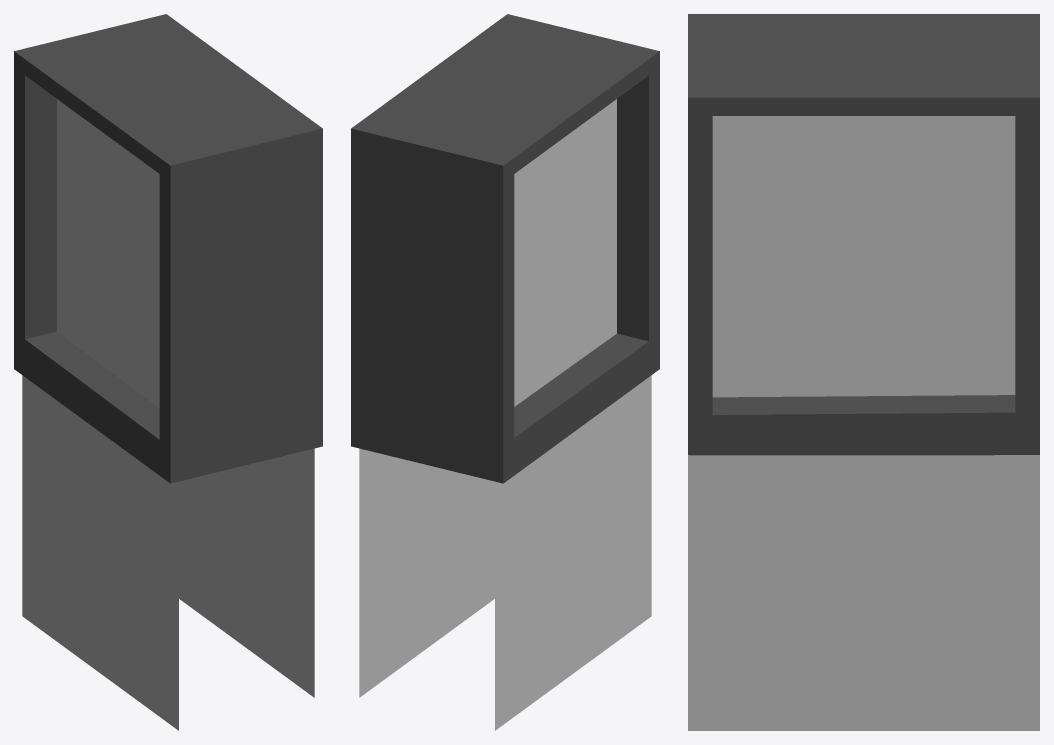
The model's file is Wall_White_Window.fbx.
The picture shows the model from 3 angles, left to right: view 1: azimuth 30°, elevation 25°; view 2: azimuth 150°, elevation 25°; view 3: azimuth 270°, elevation 25°; orthographic projection. The views are drawn at different scales.
Visible parts, largest first — view 1: Cube, Cube.001; view 2: Cube, Cube.001; view 3: Cube, Cube.001.
Part boxes in pixels (bbox=[...]): Cube: bbox=[14, 14, 322, 730]; Cube.001: bbox=[57, 99, 159, 407]; Cube: bbox=[351, 14, 659, 730]; Cube.001: bbox=[514, 99, 616, 406]; Cube: bbox=[688, 14, 1039, 730]; Cube.001: bbox=[712, 116, 1015, 397].
Size of the model in its own units: 112 by 400 by 200.
